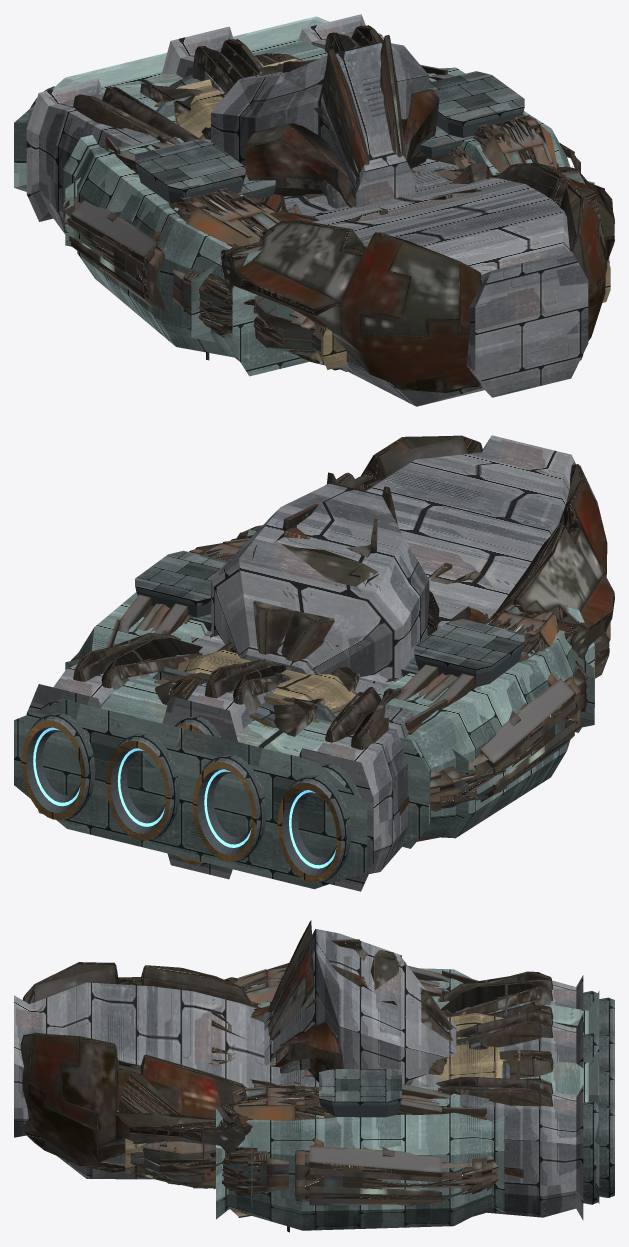
File: axial.glb
3 views of the same model, one above another, from view 1: azimuth 30°, elevation 25°; view 2: azimuth 150°, elevation 25°; view 3: azimuth 270°, elevation 25° (orthographic). The views are drawn at different scales.
Visible parts, largest first — view 1: capital-bow-wedge-ram, freighter-mid-gantry-saddle, capital-mid-citadel-vault, capital-stern-furnace-bank, freighter-stern-transit-bus, freighter-bow-storm-hood, cargo-mid-girder-bed, builder-stern-tug-stacks, builder-bow-shoe-fork; view 2: freighter-stern-transit-bus, freighter-mid-gantry-saddle, capital-bow-wedge-ram, capital-mid-citadel-vault, capital-stern-furnace-bank, builder-stern-tug-stacks, freighter-bow-storm-hood; view 3: capital-bow-wedge-ram, freighter-mid-gantry-saddle, capital-stern-furnace-bank, capital-mid-citadel-vault, freighter-stern-transit-bus, freighter-bow-storm-hood, builder-stern-tug-stacks, builder-bow-shoe-fork.
Part boxes in pixels (bbox=[...]): capital-bow-wedge-ram: bbox=[220, 153, 614, 406]; freighter-mid-gantry-saddle: bbox=[63, 64, 594, 376]; capital-mid-citadel-vault: bbox=[156, 35, 491, 221]; capital-stern-furnace-bank: bbox=[26, 14, 383, 234]; freighter-stern-transit-bus: bbox=[14, 16, 329, 191]; freighter-bow-storm-hood: bbox=[253, 187, 609, 371]; cargo-mid-girder-bed: bbox=[237, 126, 475, 213]; builder-stern-tug-stacks: bbox=[154, 58, 303, 140]; builder-bow-shoe-fork: bbox=[267, 161, 610, 369]; freighter-stern-transit-bus: bbox=[14, 672, 367, 889]; freighter-mid-gantry-saddle: bbox=[65, 529, 594, 848]; capital-bow-wedge-ram: bbox=[231, 435, 614, 659]; capital-mid-citadel-vault: bbox=[152, 472, 489, 722]; capital-stern-furnace-bank: bbox=[26, 632, 413, 891]; builder-stern-tug-stacks: bbox=[154, 649, 357, 728]; freighter-bow-storm-hood: bbox=[428, 562, 609, 678]; capital-bow-wedge-ram: bbox=[14, 962, 318, 1179]; freighter-mid-gantry-saddle: bbox=[215, 955, 504, 1232]; capital-stern-furnace-bank: bbox=[411, 971, 598, 1220]; capital-mid-citadel-vault: bbox=[213, 920, 510, 1189]; freighter-stern-transit-bus: bbox=[486, 991, 614, 1203]; freighter-bow-storm-hood: bbox=[129, 1010, 263, 1184]; builder-stern-tug-stacks: bbox=[431, 1012, 520, 1080]; builder-bow-shoe-fork: bbox=[125, 1003, 300, 1188].
Size of the model in its own units: 2.12 by 1.3 by 2.97.
14 materials, 12 textured.
